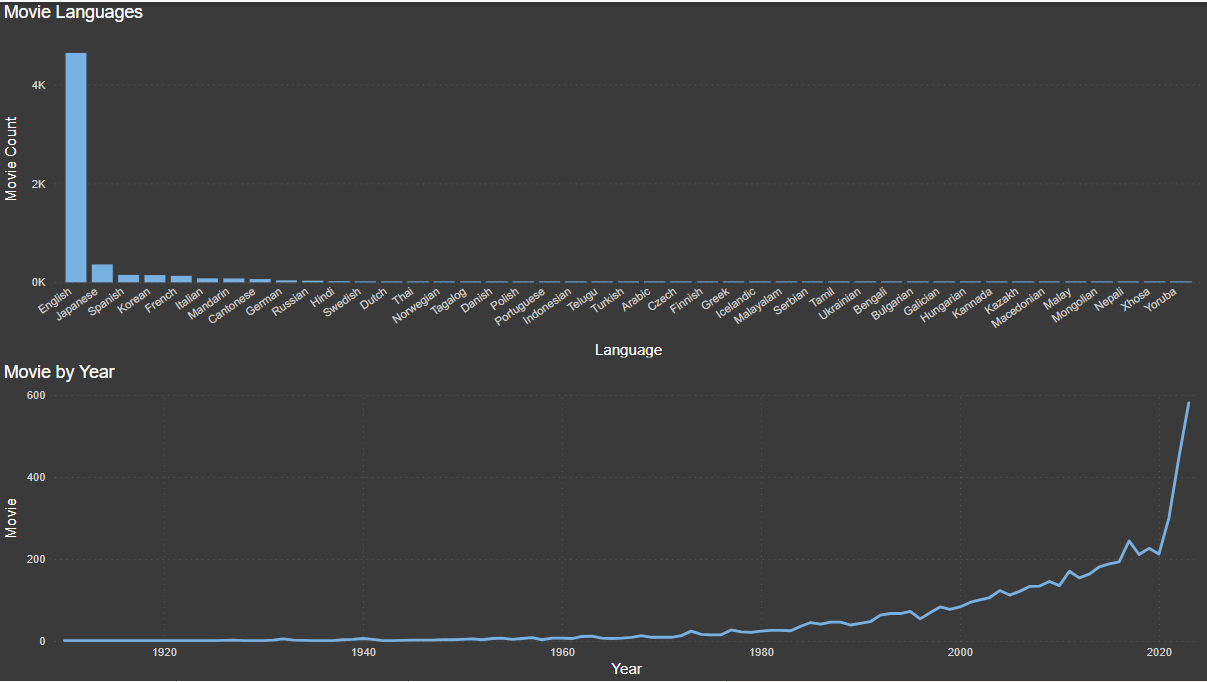

Layout of this report page (visuals, bound fields, positions):
{"tool":"powerbi","page":{"name":"Languages and Years","canvas":[1280,720],"ordinal":1},"visuals":[{"type":"columnChart","title":"Movie Languages","fields":{"Category":["language.english_name"],"Y":["_Measures.Movie"]},"box":[0,0,1279.4,381.7],"z":0},{"type":"lineChart","fields":{"Category":["release_date.release_date.Variation.Date Hierarchy.Year"],"Y":["_Measures.Movie"]},"box":[0,381.7,1279.4,338.3],"z":1000}]}

Visuals, with their boxes in screenshot pixels (x1, y1, x2, y2), scaled from the page's 1280x720 canvas onto the 1207x682 screenshot:
"Movie Languages" columnChart: {"x1": 0, "y1": 0, "x2": 1206, "y2": 362}
lineChart - release_date.release_date.Variation.Date Hierarchy.Year x _Measures.Movie: {"x1": 0, "y1": 362, "x2": 1206, "y2": 681}
